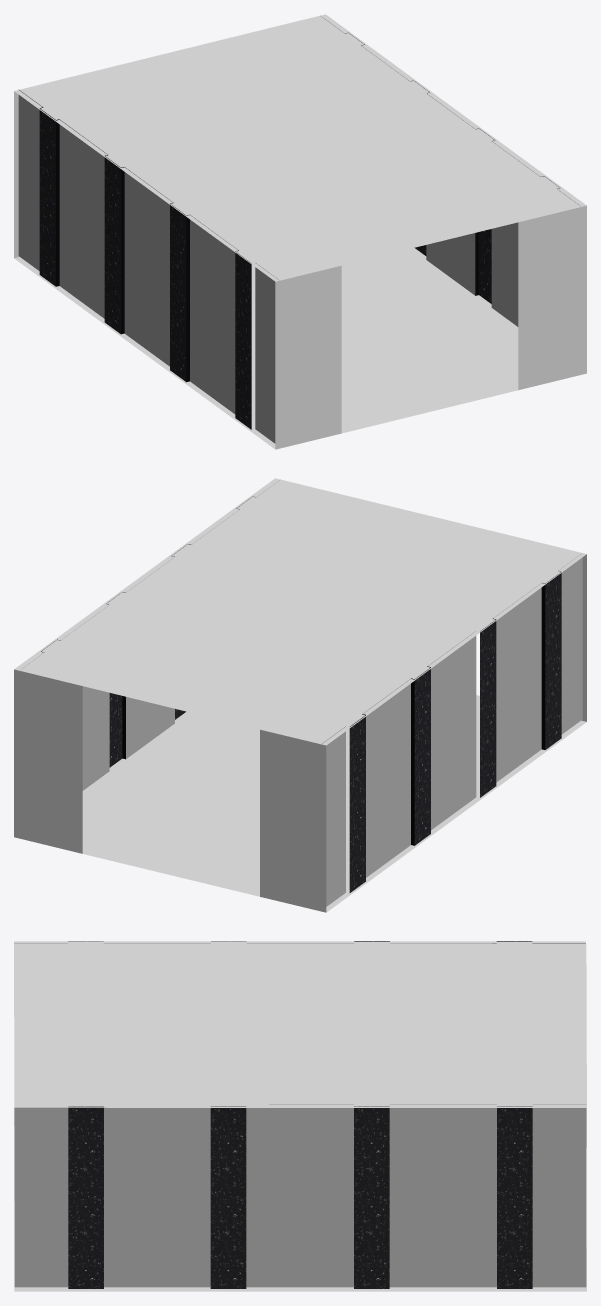
Rendered from room2_a.gltf.
3 views of the same model, one above another, from view 1: azimuth 30°, elevation 25°; view 2: azimuth 150°, elevation 25°; view 3: azimuth 270°, elevation 25° (orthographic). The views are drawn at different scales.
Visible parts, largest first — view 1: Cube, site19_wall_cb_modern.001, site19_wall_cb_modern; view 2: Cube, site19_wall_cb_modern.001, site19_wall_cb_modern; view 3: site19_wall_cb_modern, Cube, site19_wall_cb_modern.001.
Part boxes in pixels (x1=…): Cube: x1=14, y1=14, x2=586, y2=449; site19_wall_cb_modern.001: x1=18, y1=89, x2=278, y2=443; site19_wall_cb_modern: x1=321, y1=16, x2=580, y2=326; Cube: x1=14, y1=478, x2=586, y2=912; site19_wall_cb_modern.001: x1=322, y1=553, x2=582, y2=906; site19_wall_cb_modern: x1=21, y1=480, x2=279, y2=790; site19_wall_cb_modern: x1=14, y1=1104, x2=586, y2=1288; Cube: x1=14, y1=941, x2=586, y2=1291; site19_wall_cb_modern.001: x1=14, y1=941, x2=585, y2=1125.
Bounding box in the file's own units: 14.12 × 7.27 × 20.49.
Materials: 27 (8 with a texture image).
